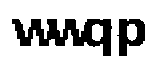p: (117, 17, 148, 60)
q: (84, 17, 113, 60)
w: (9, 16, 53, 49), (51, 17, 86, 49)
